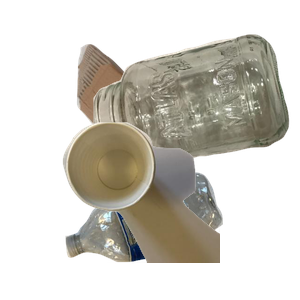cardboard: (74, 42, 225, 170)
glass: (91, 32, 300, 189)
plastic: (63, 170, 278, 300)
trash: (60, 120, 300, 300)
